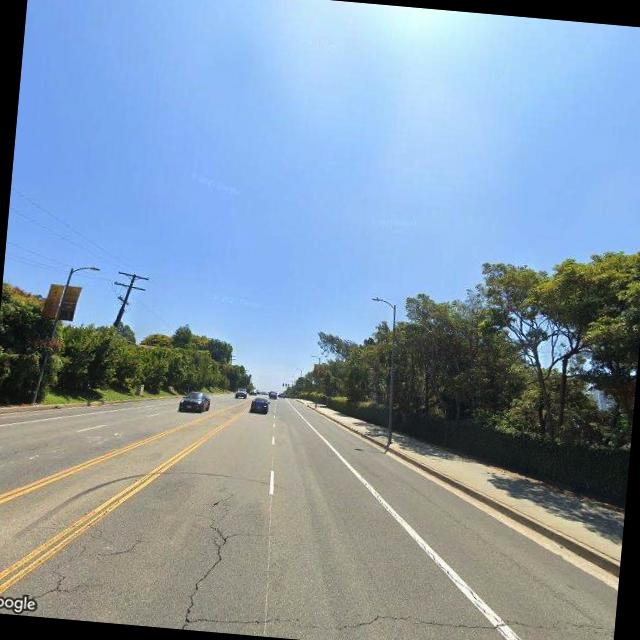crack: (182, 577, 600, 640), (174, 494, 236, 630)
